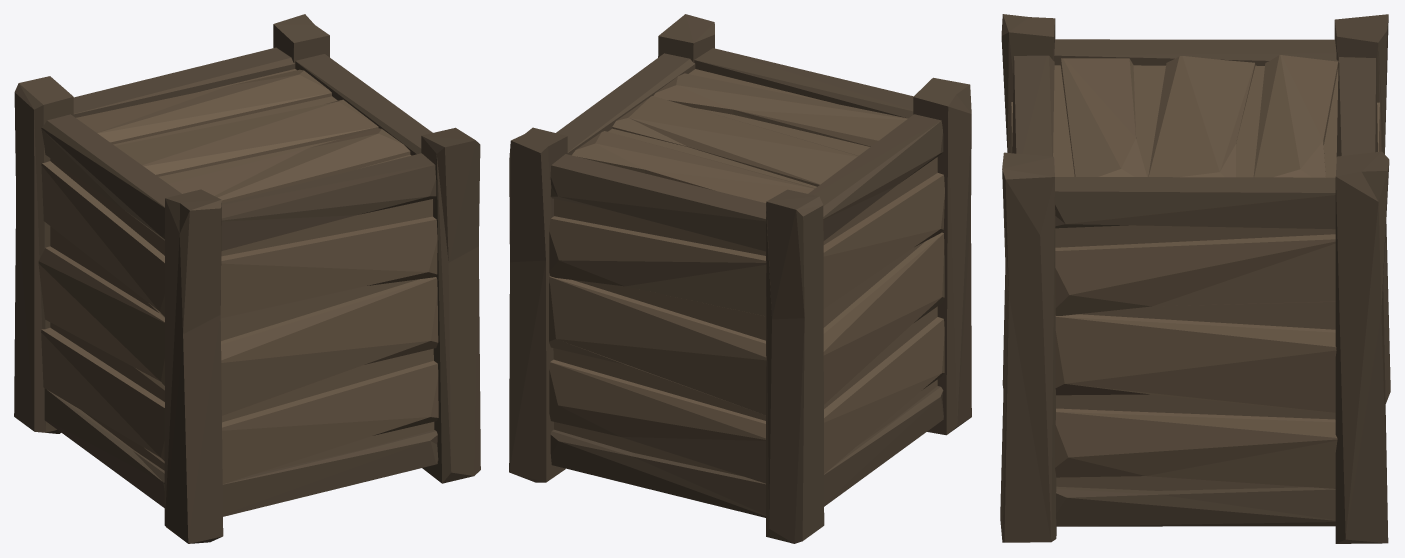
File: Small_box.glb
3 views of the same model, side by side, from view 1: azimuth 30°, elevation 25°; view 2: azimuth 150°, elevation 25°; view 3: azimuth 270°, elevation 25° (orthographic). The views are drawn at different scales.
Visible parts, largest first — view 1: box; view 2: box; view 3: box.
Part boxes in pixels (x1,y1,x2,y2): box: (14, 14, 480, 543); box: (509, 14, 971, 543); box: (1000, 14, 1390, 543).
Size of the model in its own units: 0.8663 by 0.9379 by 0.8738.
